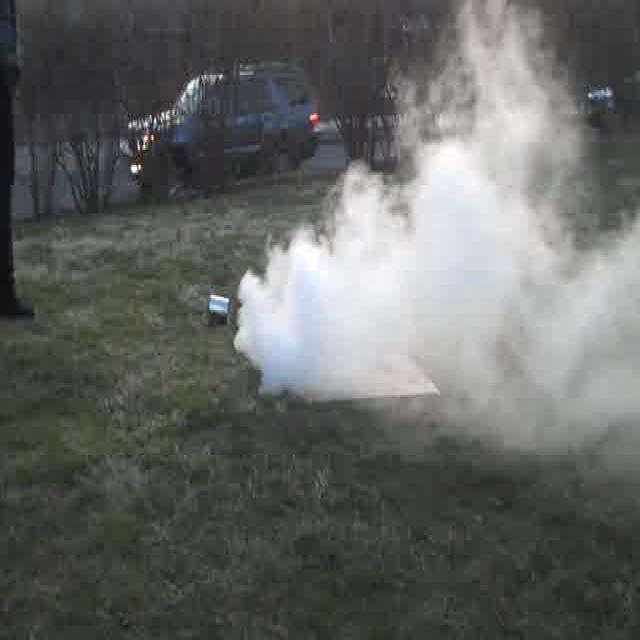Smoke: (251, 173, 638, 394)
